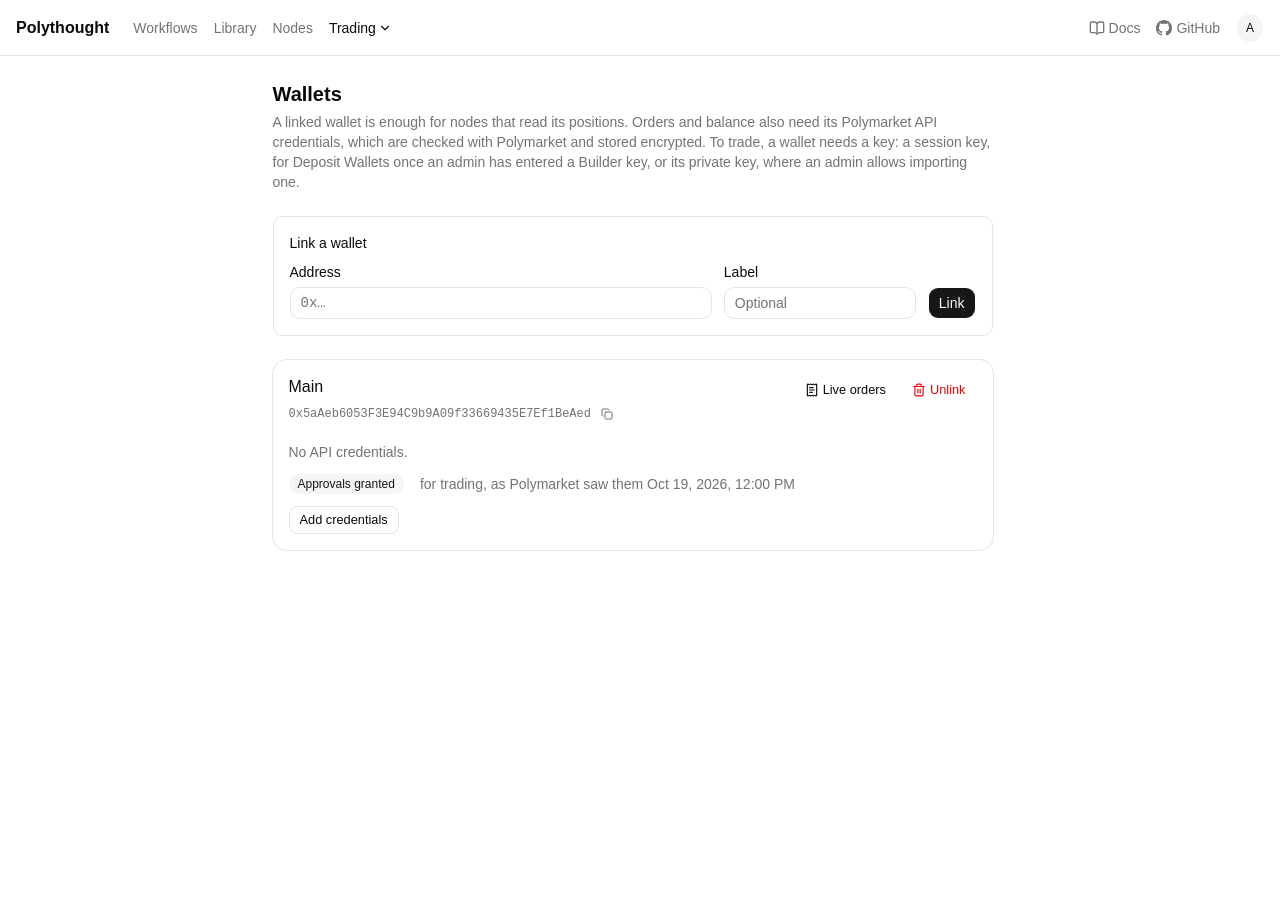
Test case: wallets page › names the workflows trading live from it, and unlinks once confirmed (D218)
Step 1. Click the button "Unlink" → (939, 390), box [901,376,976,404]
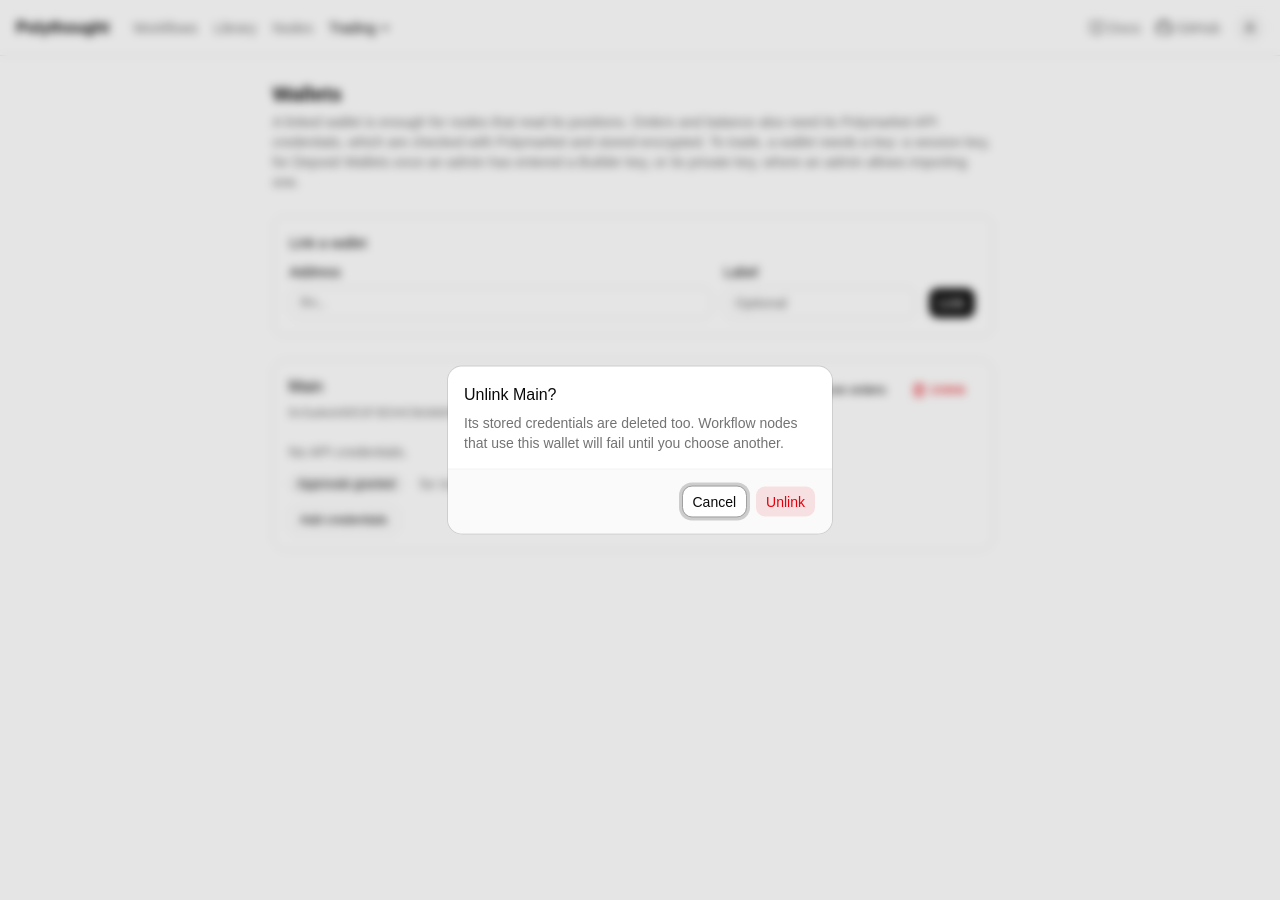
Step 2. Click the button "Unlink" → (786, 502), box [755,486,816,518]
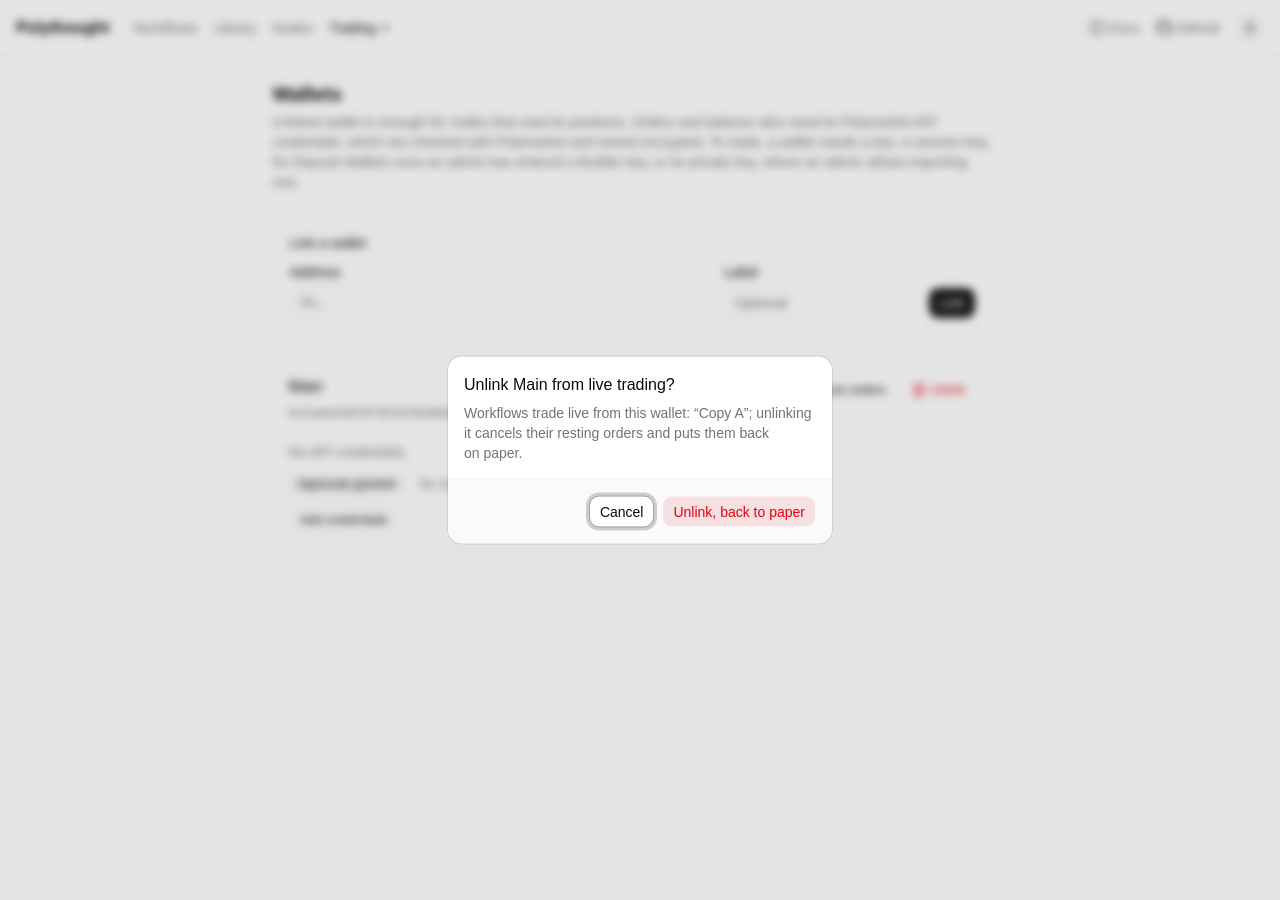
Expected: the dialog "from live trading" shows "“Copy A”; unlinking it cancels their resting orders", [464,404,812,460]
Step 3. Click the button "Unlink, back to paper" → (739, 512), box [662,496,816,528]
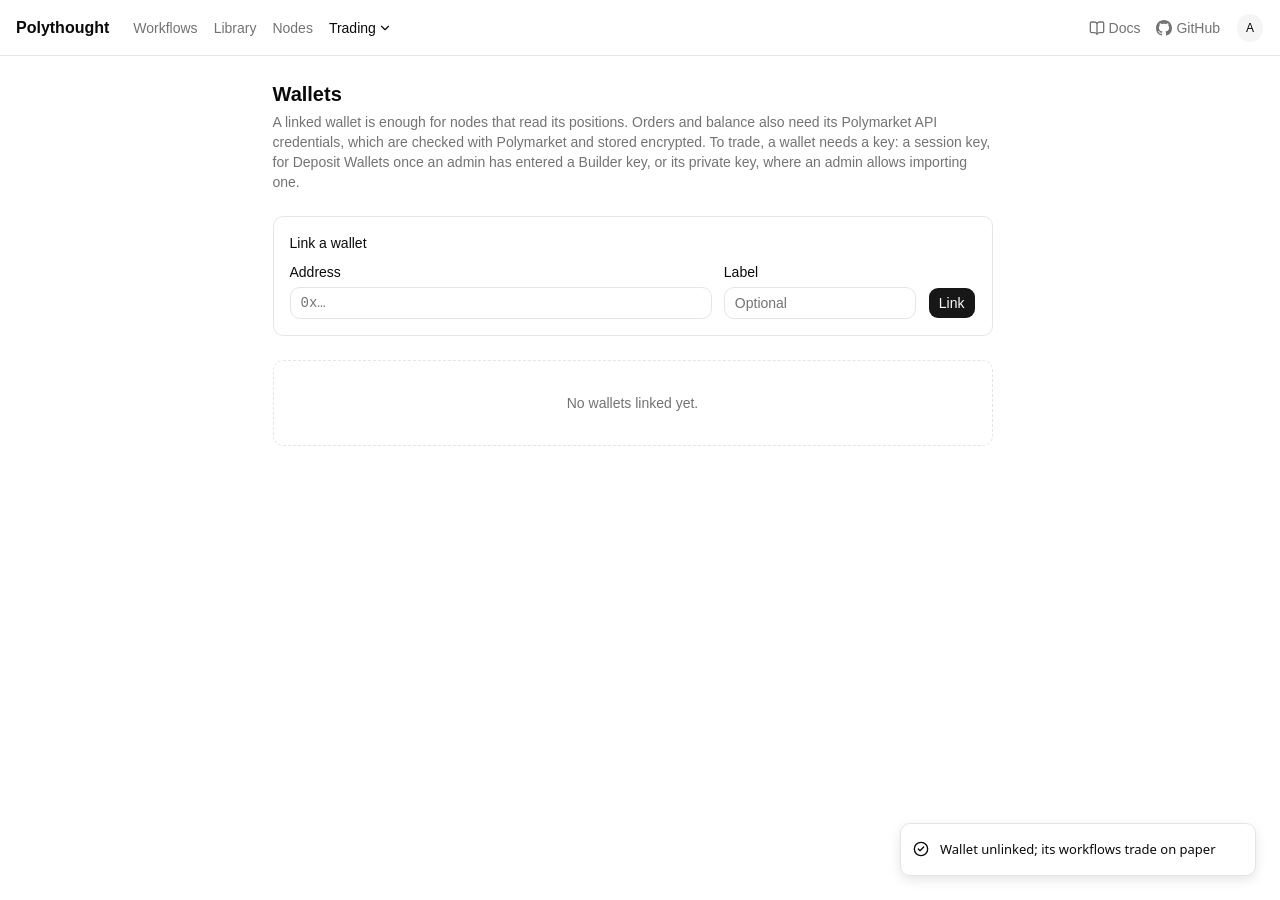
Expected: the text "Wallet unlinked; its workflows trade on paper" is shown, [940,840,1216,859]
